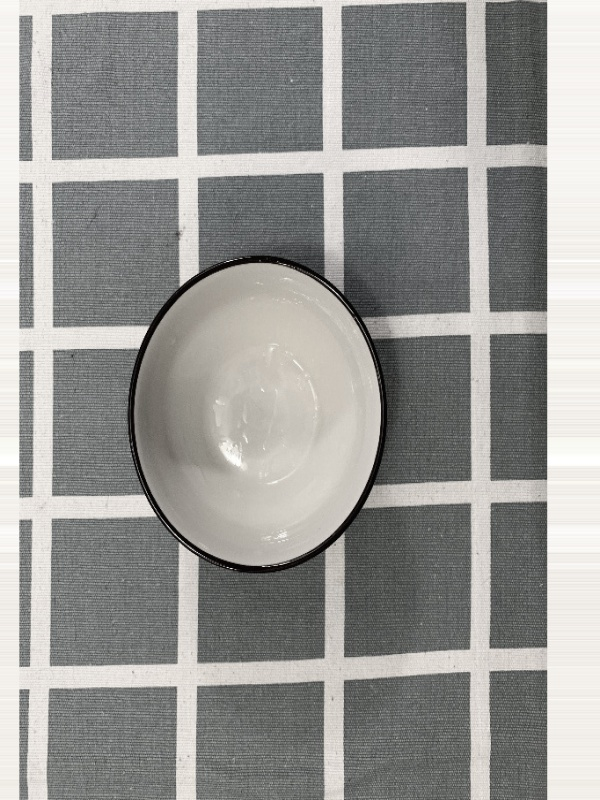bowl_small: (122, 244, 395, 582)
